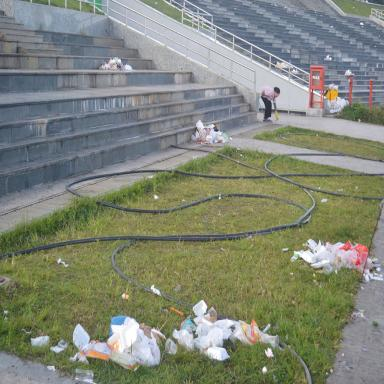plasticbag: (168, 306, 300, 363), (75, 315, 170, 366), (294, 240, 376, 273), (194, 120, 229, 148), (97, 54, 135, 71)
